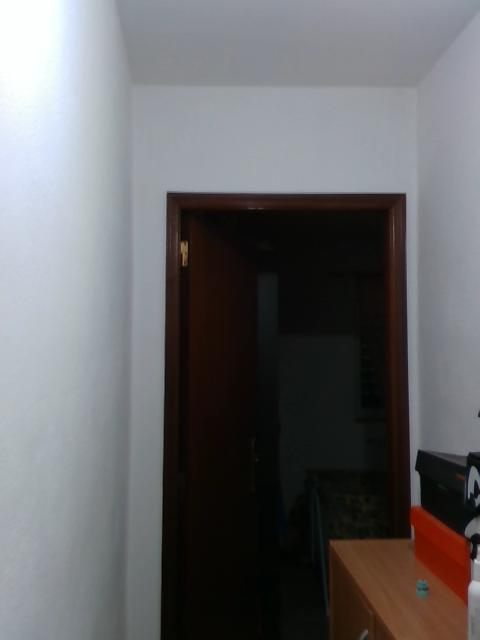open_door: (161, 188, 406, 638)
